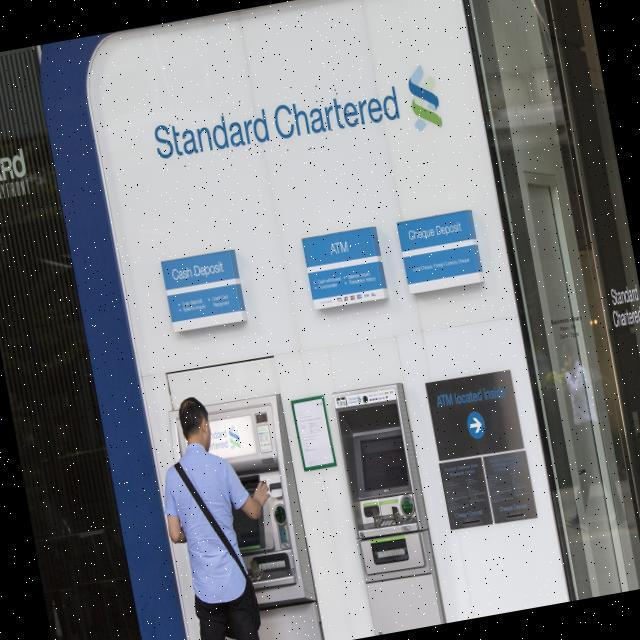Standard Chartered: (150, 60, 442, 177)
